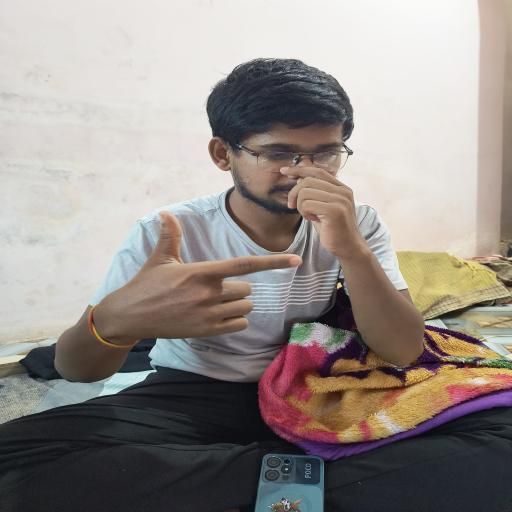OK: (88, 204, 311, 355)
